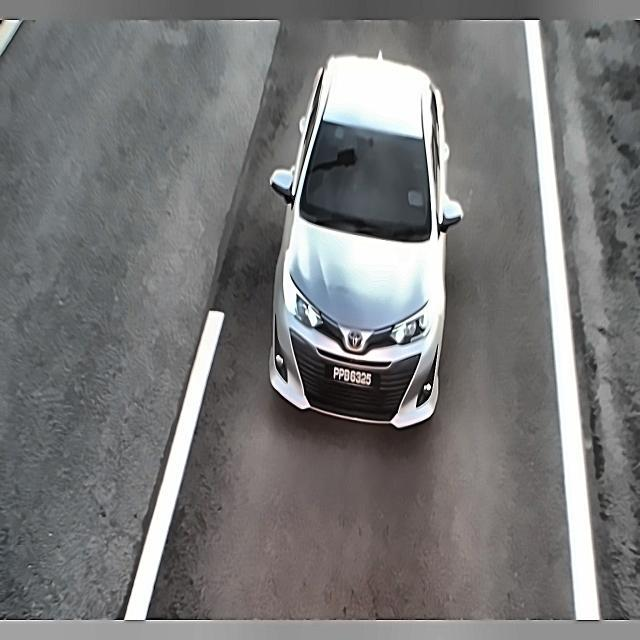car: (322, 360, 390, 394)
